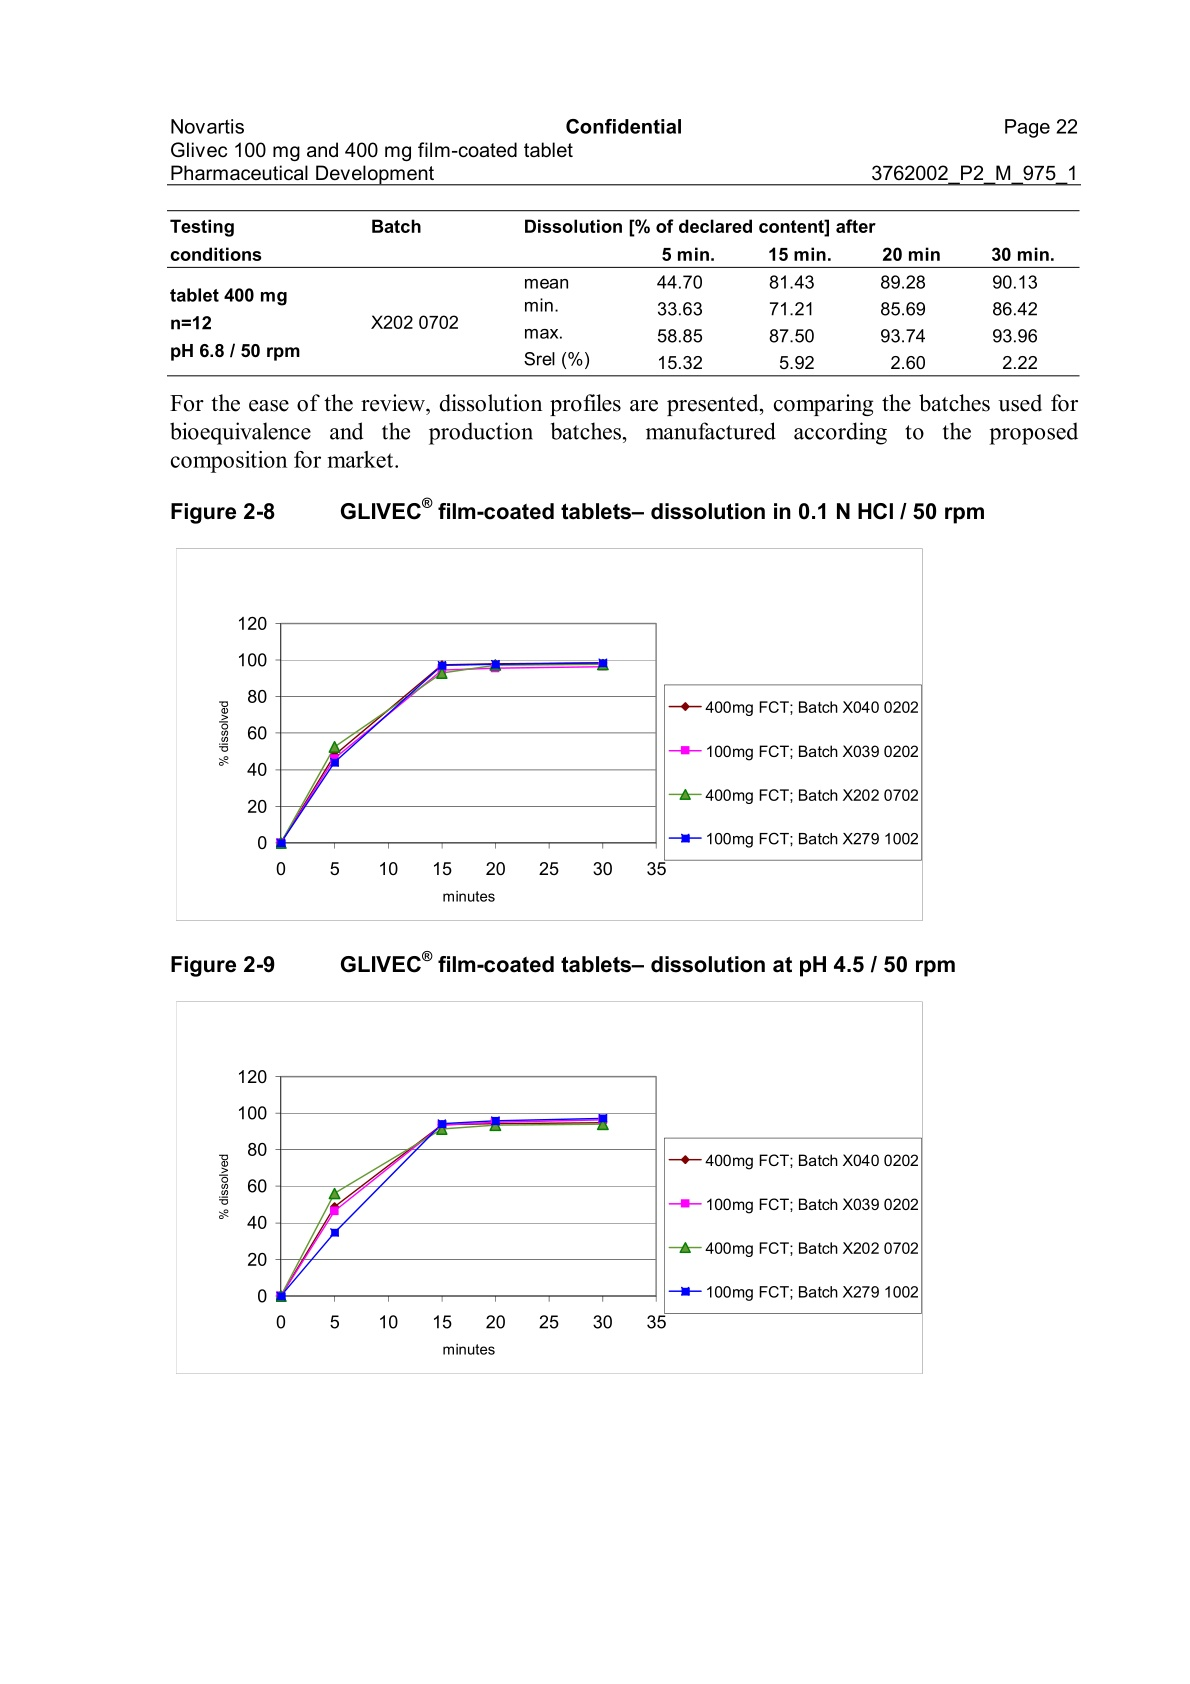partial_lined_merged_cells: (165, 209, 1081, 379)
